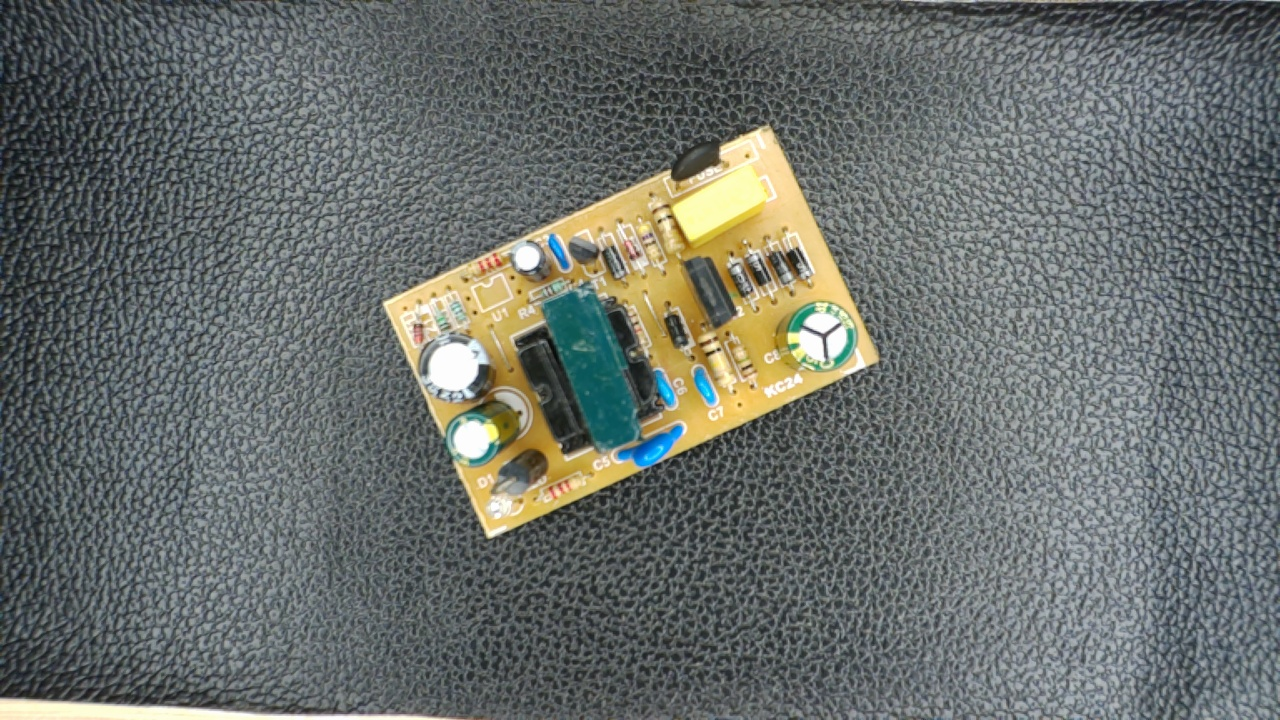fuse: (663, 141, 734, 203)
hv_capacitor: (777, 297, 858, 378)
mov: (609, 420, 690, 473)
